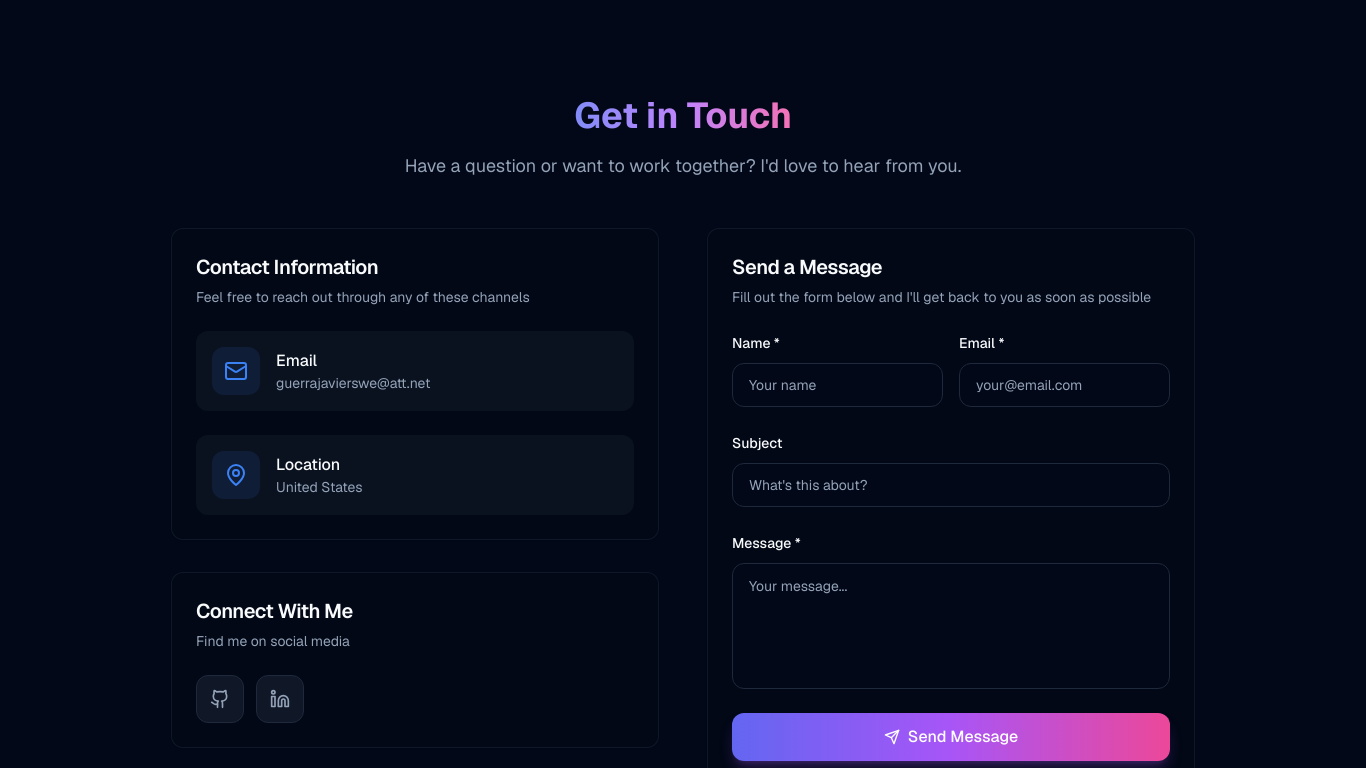
Test: ContactPage › shows the validation error returned by the backend
This screenshot has width=1366, height=768.
Type "Jane Doe" into the field labelled "Name *" at (838, 385), box [732, 363, 943, 407]
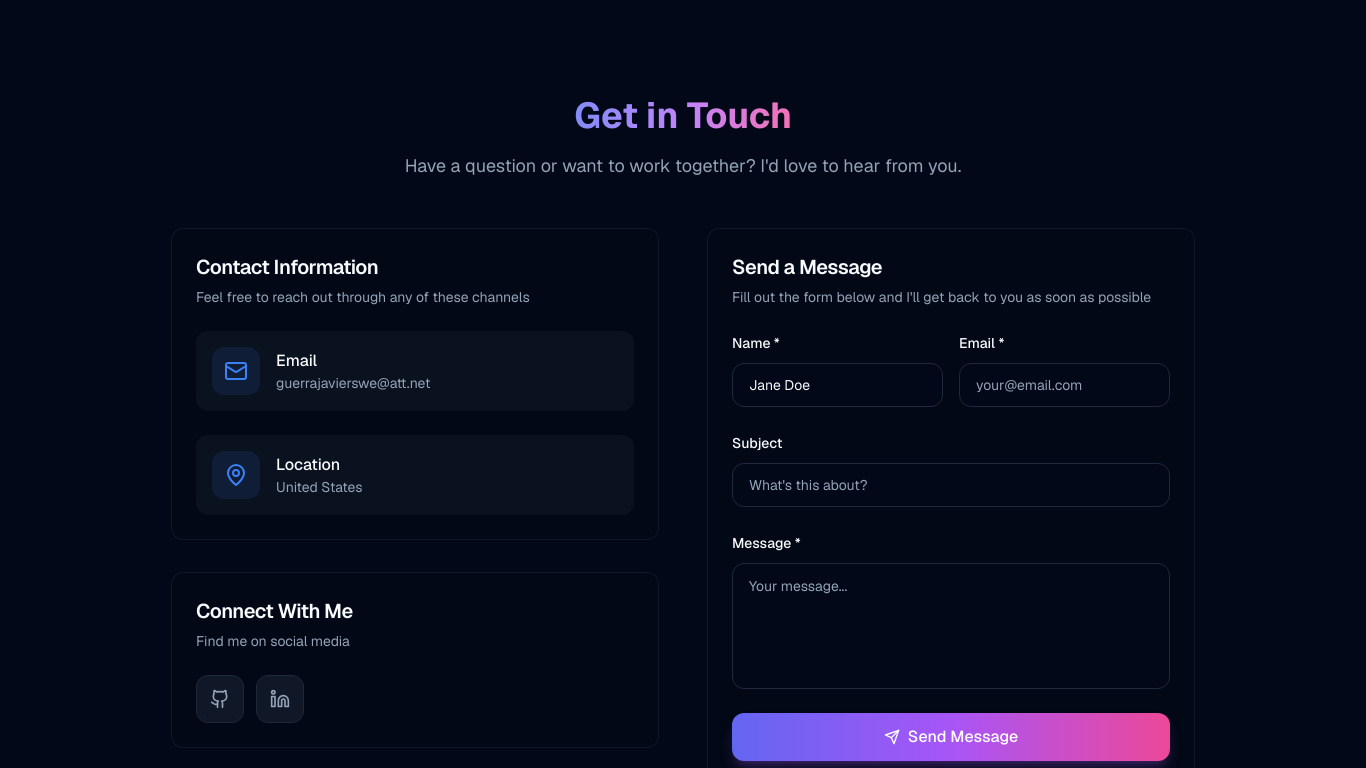
Type "jane@example.com" into the field labelled "Email *" at (1064, 385), box [959, 363, 1170, 407]
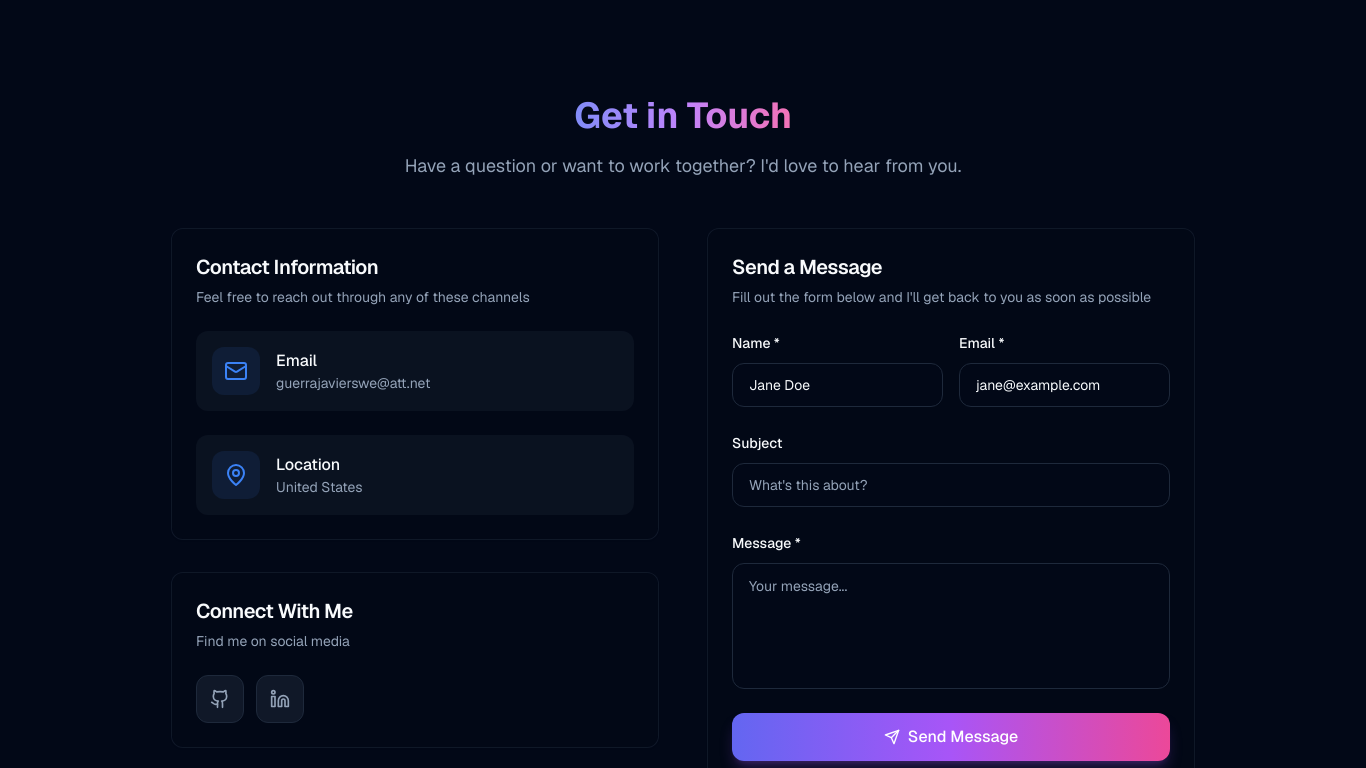
Type "Project inquiry" into the field labelled "Subject" at (951, 485), box [732, 463, 1170, 507]
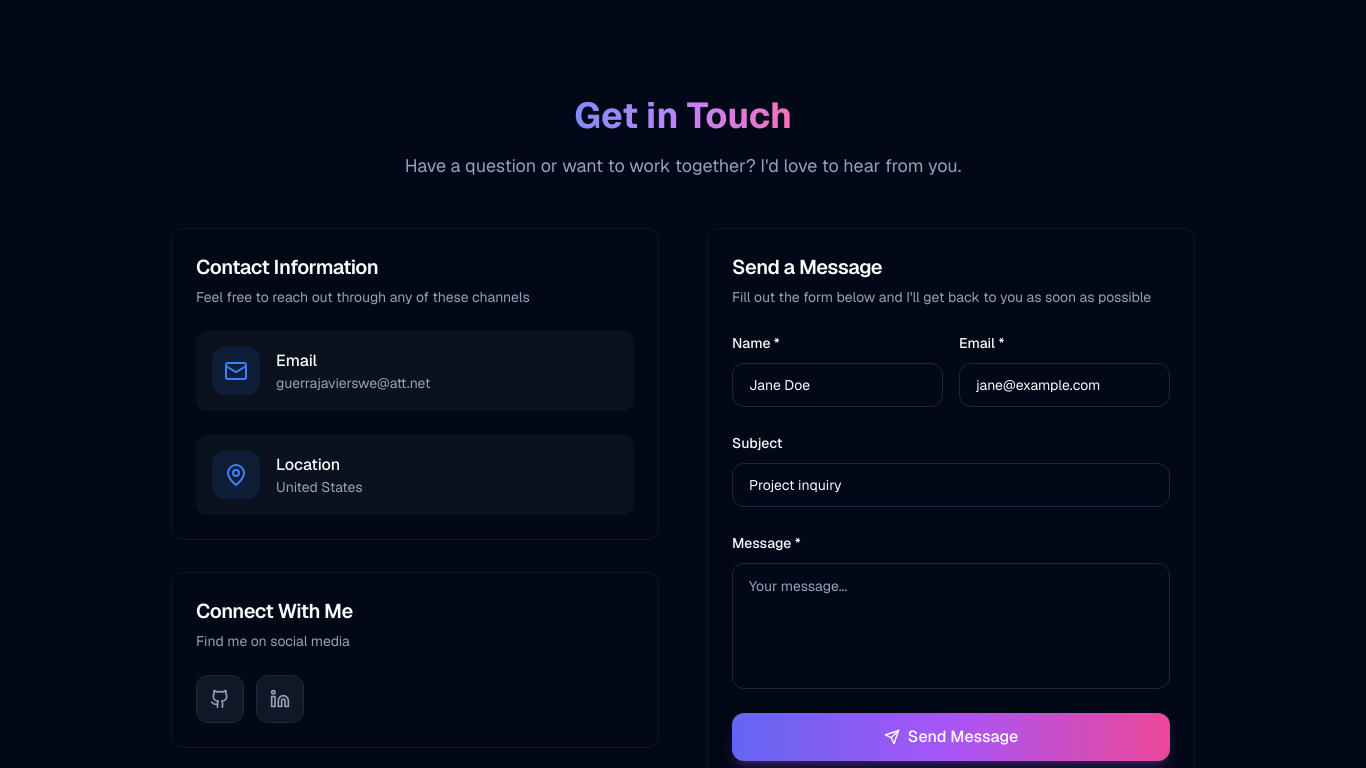
Type "Hello from the test suite." into the text box labelled "Message *" at (951, 626), box [732, 563, 1170, 689]
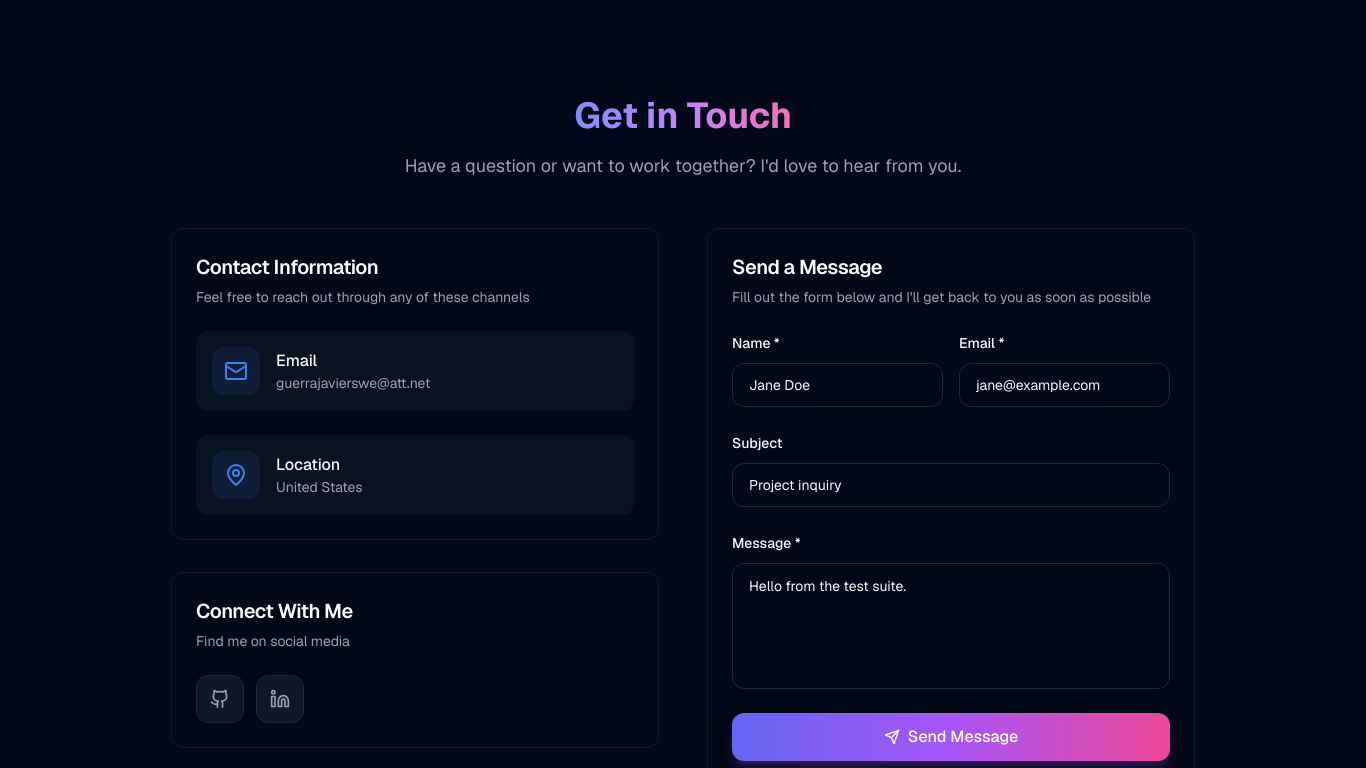
Click the button "Send Message" at (951, 737), box [732, 713, 1170, 761]
(page scrolled)
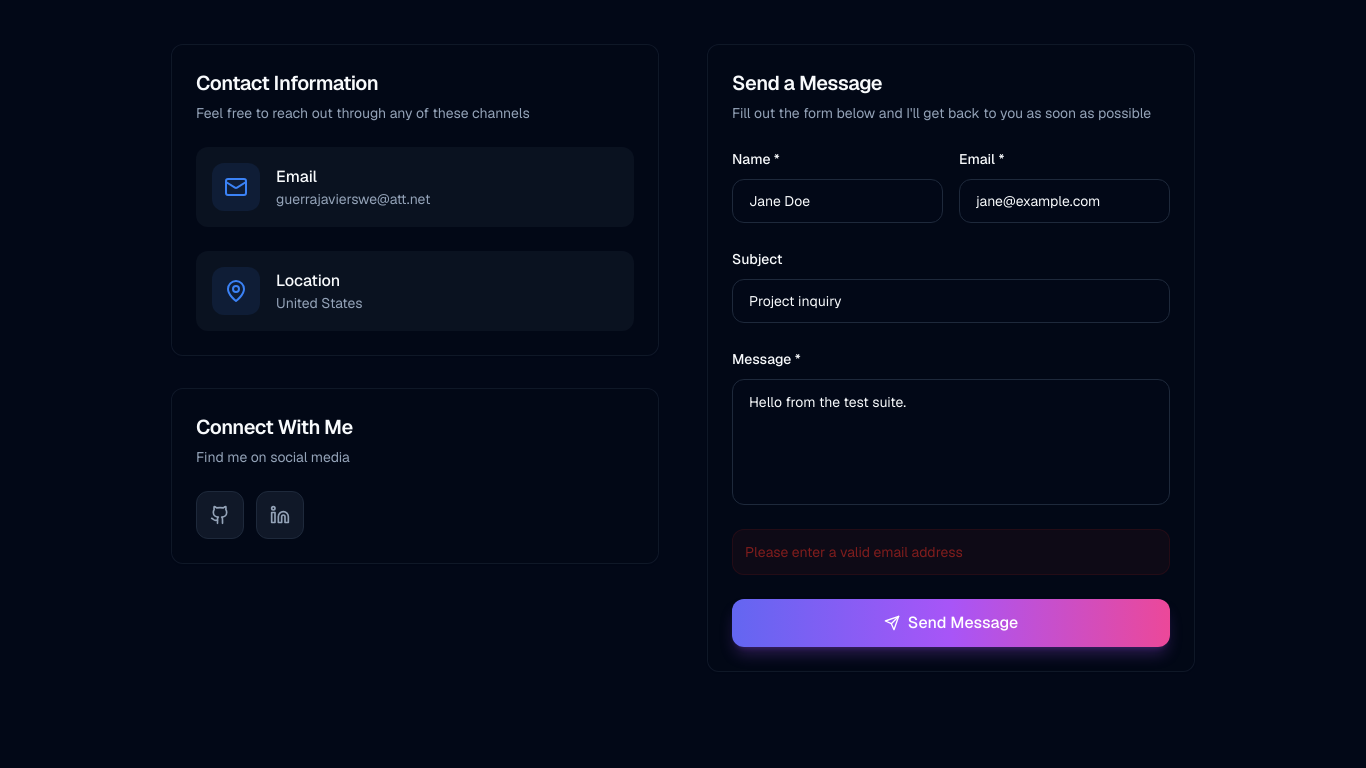
Expected: the button "Send Message" is shown, [732, 599, 1170, 647]
Result: the text "Please enter a valid email address" is shown at [732, 529, 1170, 575]
